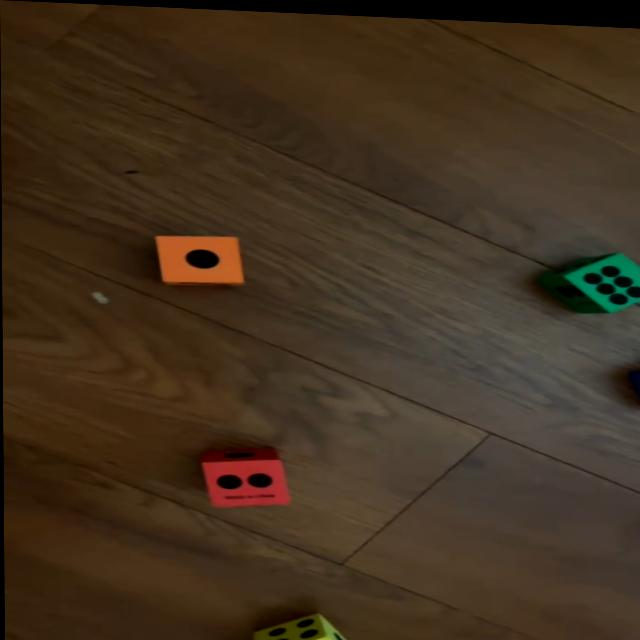red_block: (200, 443, 289, 507)
